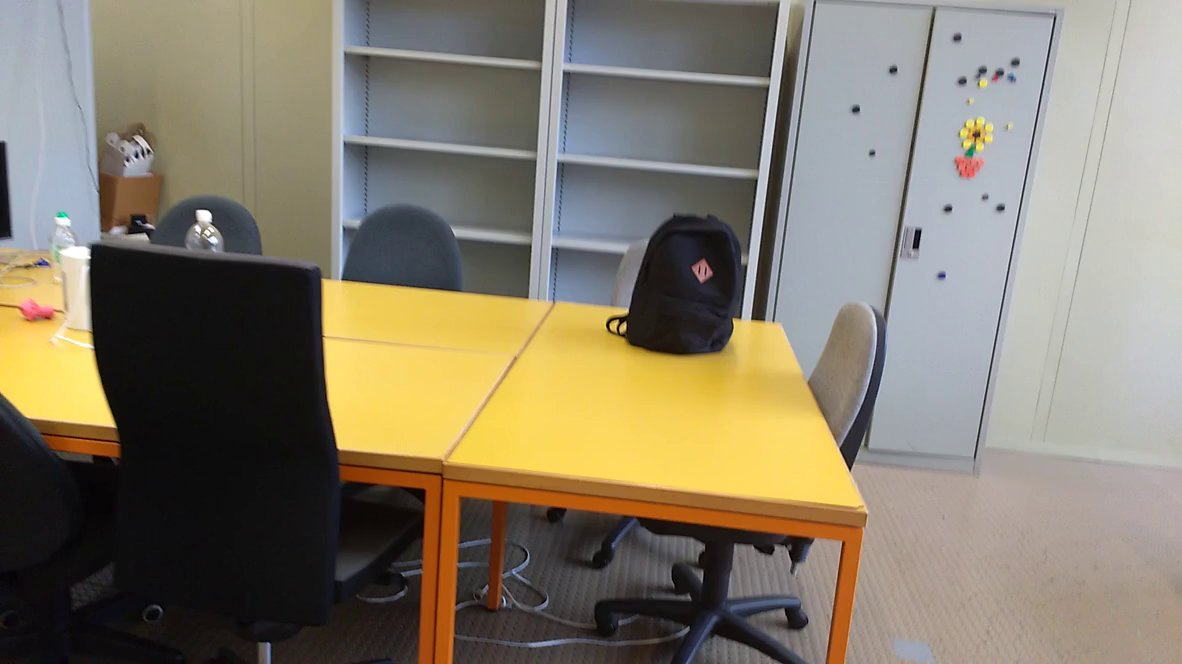bag: (601, 207, 751, 365)
chair: (47, 216, 443, 664), (793, 281, 893, 525), (329, 195, 478, 318), (139, 188, 285, 294)
